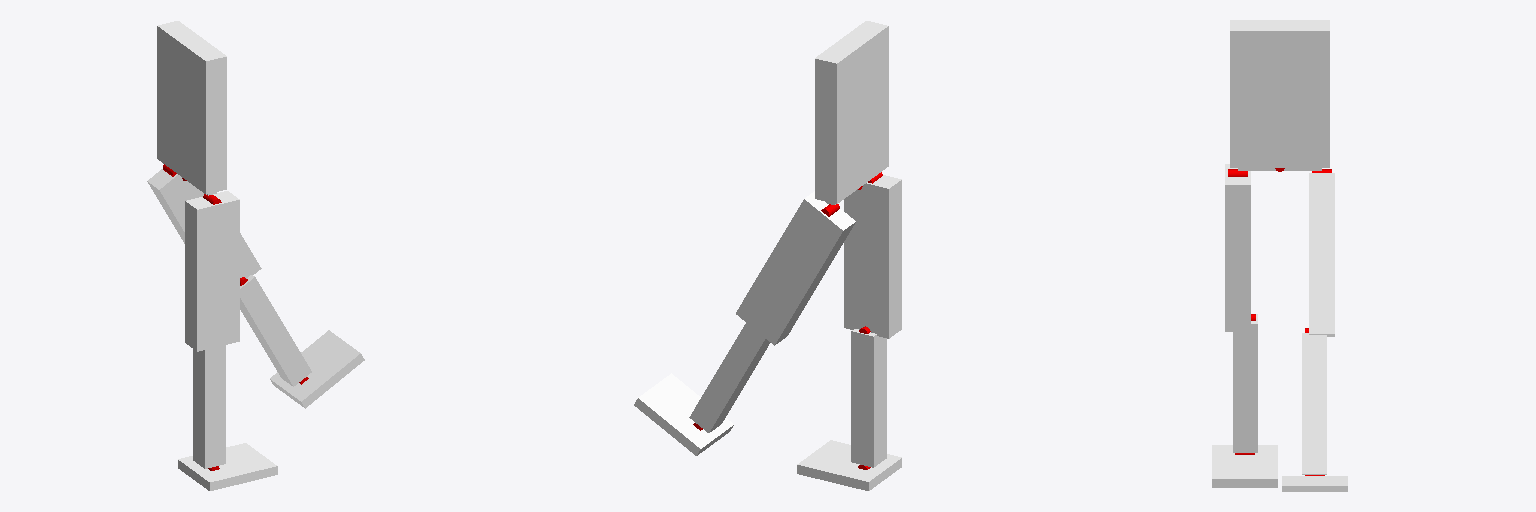
URDF robot description (humanoid):
<?xml version="1.0" ?>
<robot name="humanoid">

	<link name="world">
	<inertial>
      <mass value="0"/>
      <inertia ixx="0.2125" ixy="-0.005" ixz="0.0225" iyy="0.205" iyz="0.045" izz="0.0125"/>
      <origin rpy="0 0 0" xyz="0 0 0"/>
    </inertial>
	</link>

	<link name="x_prismatic">
	 <inertial>
      <mass value="0.01"/>
      <inertia ixx="0.2125" ixy="-0.005" ixz="0.0225" iyy="0.205" iyz="0.045" izz="0.0125"/>
      <origin rpy="0 0 0" xyz="0 0 0"/>
    </inertial>
	</link>

	<joint name="x_to_world" type="prismatic">
    <parent link="world"/>
    <child link="x_prismatic"/>
    <axis xyz="1 0 0"/>
    <limit effort="0.0" lower="10" upper="-10" velocity="1000.0"/>
    <origin rpy="0 0 0" xyz="0 0 0"/>
  </joint>

	<link name="z_prismatic">
	 <inertial>
      <mass value="0.01"/>
      <inertia ixx="0.2125" ixy="-0.005" ixz="0.0225" iyy="0.205" iyz="0.045" izz="0.0125"/>
      <origin rpy="0 0 0" xyz="0 0 0"/>
    </inertial>
	</link>

	<joint name="z_to_y" type="prismatic">
    <parent link="x_prismatic"/>
    <child link="z_prismatic"/>
    <axis xyz="0 0 1"/>
     <limit effort="0.0" lower="10" upper="-10" velocity="1000.0"/>
    <origin rpy="0 0 0" xyz="0 0 0"/>
  </joint>

	<joint name="torso_to_z" type="revolute">
    <parent link="z_prismatic"/>
    <child link="body"/>
    <axis xyz="0 1 0"/>
    <origin rpy="0 0 0" xyz="0 0 0"/>
    <limit effort="0.0" lower="10" upper="-10" velocity="1000.0"/>
  </joint>


    <link name="body">
        <visual>
            <geometry>
                <box size="0.05 0.2 0.3"/>
            </geometry>
            <origin xyz="0.0 0 0.0" rpy="0 0 0"/>
            <material name="linkColor">
                <color rgba="1 1 1 1"/>
            </material>
        </visual>
        <inertial>
            <mass value="5.81"/>
            <inertia ixx="0.190" ixy="-0.000237" ixz="0.00220" iyy="0.194" iyz="0.00142" izz="0.0308"/>
            <origin xyz="0.00672  0.00244 0.076" rpy="0 0 0"/>
        </inertial>
        <collision>
            <geometry>
                <box size="0.05 0.2 0.3"/>
            </geometry>
            <origin xyz="0.0 0 0.0" rpy="0 0 0"/>
        </collision>
    </link>

    <!-- ****************************Right leg joints******************************************** -->

    <joint name="jointHipR" type="revolute">
        <parent link="body"/>
        <child link="hipCylinderR"/>
        <origin xyz="0 0.0 -0.15" rpy="0 0 0"/>
        <axis xyz="1 0 0"/>
        <limit effort="90" lower="-0.174533" upper="0" velocity="10"/>
        <dynamics damping="0.01"/>
    </joint>


    <link name="hipCylinderR">
        <visual>
            <geometry>
                <cylinder length="0.04" radius="0.01"/>
            </geometry>
            <origin xyz="0 0 0.0" rpy="0 1.57 0"/>
            <axis xyz="0 0 0" />
            <material name="red">
                <color rgba="1 0.0 0.0 1.0"/>
            </material>
        </visual>
        <inertial>
            <mass value="0"/>
            <inertia ixx="0" ixy="0" ixz="0.0" iyy="0" iyz="0.0" izz="0"/>
        </inertial>
    </link>

    <joint name="jointUpperLegR" type="revolute">
        <parent link="hipCylinderR"/>
        <child link="upperLegCylinderR"/>
        <origin xyz="0 -0.0830 -0.0250" rpy="0 0 0"/>
        <axis xyz="0 1 0"/>
        <limit effort="90" lower="-0.698132" upper="+1.047" velocity="10"/>
        <dynamics damping="0.173402366366"/>
    </joint>

    <link name="upperLegCylinderR">
        <visual>
            <geometry>
                <cylinder length="0.04" radius="0.01"/>
            </geometry>
            <origin xyz="0 0 0" rpy="1.57 0 0"/>
            <axis xyz="0 0 0" />
            <material name="red"/>
        </visual>
        <inertial>
            <mass value="0"/>
            <inertia ixx="0" ixy="0" ixz="0.0" iyy="0" iyz="0.0" izz="0"/>
        </inertial>
    </link>

    <joint name="jointLowerLegR" type="revolute">
        <parent link="upperLegCylinderR"/>
        <child link="lowerlegCylinderR"/>
        <origin xyz="0.00110 0.0140 -0.3155" rpy="0 0 0"/>
        <axis xyz="0 1 0"/>
        <limit effort="90" lower="0" upper="1.570796" velocity="10"/>
        <dynamics damping="0.198431592389"/>
    </joint>

    <link name="lowerlegCylinderR">
        <visual>
            <geometry>
                <cylinder length="0.044" radius="0.01"/>
            </geometry>
            <origin xyz="0 0 0" rpy="1.57075 0 0"/>
            <axis xyz="0 0 0" />
            <material name="red"/>
        </visual>
        <inertial>
            <mass value="0"/>
            <inertia ixx="0" ixy="0" ixz="0.0" iyy="0" iyz="0.0" izz="0"/>
        </inertial>
    </link>

    <joint name="jointAnkleR" type="revolute">
        <parent link="lowerlegCylinderR"/>
        <child link="ankleCylinderR"/>
        <origin xyz="0.00300 0 -0.2915" rpy="0 0 0"/>
        <axis xyz="0 1 0"/>
        <limit effort="90" lower="-0.436332" upper="+0.436332" velocity="10"/>
        <dynamics damping="0.0005"/>
    </joint>

    <link name="ankleCylinderR">
        <visual>
            <geometry>
                <cylinder length="0.04" radius="0.01"/>
            </geometry>
            <origin xyz="0 0 0" rpy="1.57075 0 0"/>
            <axis xyz="0 0 0" />
            <material name="red"/>
        </visual>
        <inertial>
            <mass value="0"/>
            <inertia ixx="0" ixy="0" ixz="0.0" iyy="0" iyz="0.0" izz="0"/>
        </inertial>
    </link>
<!--
    <joint name="jointfootR" type="revolute">
        <parent link="ankleCylinderR"/>
        <child link="footCylinderR"/>
        <origin xyz="0 0 -0.0115" rpy="0 0 0"/>
        <axis xyz="1 0 0"/>
        <limit effort="10" lower="-3" upper="+3" velocity="10"/>
        <dynamics damping="0"/>
    </joint>
    <link name="footCylinderR">
        <visual>
            <geometry>
                <cylinder length="0.04" radius="0.01"/>
            </geometry>
            <origin xyz="0 0 0.02" rpy="0 1.57 0"/>
            <axis xyz="0 0 0" />
            <material name="red"/>
        </visual>
        <inertial>
            <mass value="0"/>
            <inertia ixx="0" ixy="0" ixz="0.0" iyy="0" iyz="0.0" izz="0"/>
        </inertial>
    </link> -->

    <!--************************************ Left leg joints **********************************************-->


    <joint name="jointHipL" type="revolute">
        <parent link="body"/>
        <child link="hipCylinderL"/>
        <origin xyz="0 0.0 -0.15" rpy="0 0 0"/>
        <axis xyz="1 0 0"/>
        <limit effort="90" lower="0" upper="+0.174533" velocity="10"/>
        <dynamics damping="0.01"/>
    </joint>


    <link name="hipCylinderL">
        <visual>
            <geometry>
                <cylinder length="0.04" radius="0.01"/>
            </geometry>
            <origin xyz="0 0 0" rpy="0 1.57 0"/>
            <axis xyz="0 0 0" />
            <material name="red">
                <color rgba="1 0.0 0.0 1.0"/>
            </material>
        </visual>
        <inertial>
            <mass value="0"/>
            <inertia ixx="0" ixy="0" ixz="0.0" iyy="0" iyz="0.0" izz="0"/>
        </inertial>
    </link>

    <joint name="jointUpperLegL" type="revolute">
        <parent link="hipCylinderL"/>
        <child link="upperLegCylinderL"/>
        <origin xyz="0 0.0830 -0.0250" rpy="0 -0.5 0"/>
        <axis xyz="0 1 0"/>
        <limit effort="10" lower="-0.174533" upper="+0.174533" velocity="10"/>
        <dynamics damping="0.173402366366"/>
    </joint>

    <link name="upperLegCylinderL">
        <visual>
            <geometry>
                <cylinder length="0.04" radius="0.01"/>
            </geometry>
            <origin xyz="0 0 0.0" rpy="1.57 0 0"/>
            <axis xyz="0 0 0" />
            <material name="red"/>
        </visual>
        <inertial>
            <mass value="0"/>
            <inertia ixx="0" ixy="0" ixz="0.0" iyy="0" iyz="0.0" izz="0"/>
        </inertial>
    </link>

    <joint name="jointLowerLegL" type="revolute">
        <parent link="upperLegCylinderL"/>
        <child link="lowerlegCylinderL"/>
        <origin xyz="0.00110 -0.0140 -0.3155" rpy="0 0 0"/>
        <axis xyz="0 1 0"/>
        <limit effort="90" lower="0" upper="1.570796" velocity="10"/>
        <dynamics damping="0.198431592389"/>
    </joint>

    <link name="lowerlegCylinderL">
        <visual>
            <geometry>
                <cylinder length="0.04" radius="0.01"/>
            </geometry>
            <origin xyz="0 0 0" rpy="1.57075 0 0"/>
            <axis xyz="0 0 0" />
            <material name="red"/>
        </visual>
        <inertial>
            <mass value="0"/>
            <inertia ixx="0" ixy="0" ixz="0.0" iyy="0" iyz="0.0" izz="0"/>
        </inertial>
    </link>

    <joint name="jointAnkleL" type="revolute">
        <parent link="lowerlegCylinderL"/>
        <child link="ankleCylinderL"/>
        <origin xyz="0.00300 0 -0.2915" rpy="0 0 0"/>
        <axis xyz="0 1 0"/>
        <limit effort="90" lower="-0.436332" upper="+0.436332" velocity="10"/>
        <dynamics damping="0.0005"/>
    </joint>

    <link name="ankleCylinderL">
        <visual>
            <geometry>
                <cylinder length="0.04" radius="0.01"/>
            </geometry>
            <origin xyz="0 0 0" rpy="1.57075 0 0"/>
            <axis xyz="0 0 0" />
            <material name="red"/>
        </visual>
        <inertial>
            <mass value="0"/>
            <inertia ixx="0" ixy="0" ixz="0.0" iyy="0" iyz="0.0" izz="0"/>
        </inertial>
    </link>

    <!-- <joint name="jointfootL" type="revolute">
        <parent link="ankleCylinderL"/>
        <child link="footCylinderL"/>
        <origin xyz="0 0 -0.0115" rpy="0 0 0"/>
        <axis xyz="1 0 0"/>
        <limit effort="10" lower="-3" upper="+3" velocity="10"/>
        <dynamics damping="0"/>
    </joint>
    <link name="footCylinderL">
        <visual>
            <geometry>
                <cylinder length="0.04" radius="0.01"/>
            </geometry>
            <origin xyz="0 0 0.02" rpy="0 1.57 0"/>
            <axis xyz="0 0 0" />
            <material name="red"/>
        </visual>
        <inertial>
            <mass value="0"/>
            <inertia ixx="0" ixy="0" ixz="0.0" iyy="0" iyz="0.0" izz="0"/>
        </inertial>
    </link> -->

    <!-- **************************************Decorations Right leg **********************************************-->


    <joint name="fixed_hipBridgeR" type="fixed">
        <parent link="hipCylinderR"/>
        <child link="hipBridgeR"/>
    </joint>

    <link name="hipBridgeR">
        <visual>
            <geometry>
                <box size="0.02 0.0830 0.0250"/>
            </geometry>
            <origin xyz="0 -0.0415 0.0" rpy="0 0 0"/>
            <material name="linkColor">
                <color rgba="1 1 1 1"/>
            </material>
        </visual>
        <inertial>
            <mass value="0.219"/>
            <inertia ixx="0.000414" ixy="0.0000149" ixz="0.00000188" iyy="0.000128" iyz="-0.0000311" izz="0.000395"/>
            <origin rpy="0 0 0" xyz="0.00131 -0.0515 -0.00661"/>
        </inertial>
        <collision>
            <geometry>
                <box size="0.02 0.0830 0.0250"/>
            </geometry>
            <origin xyz="0 -0.0415 0.0" rpy="0 0 0"/>
            <!-- <contact_coefficient mu="0.0"  resitution="0"  k_p="4000"  k_d="0.01" /> -->
        </collision>
    </link>

    <joint name="fixed_upperLegBridgeR" type="fixed">
        <parent link="upperLegCylinderR"/>
        <child link="upperLegBridgeR"/>
    </joint>

    <link name="upperLegBridgeR">
        <visual>
            <geometry>
                <box size="0.1 0.05 0.32"/>
            </geometry>
            <origin xyz="0.0 0.0 -0.16" rpy="0 0 0"/>
            <material name="linkColor">
                <color rgba="1 1 1 1"/>
            </material>
        </visual>
        <inertial>
            <mass value="1.94"/>
            <inertia ixx="0.0104" ixy="-0.00000195" ixz="0.0000231" iyy="0.00933" iyz="-0.000127" izz="0.00161"/>
            <origin xyz="0.00154  -0.00421 -0.111" rpy="0 0 0"/>
        </inertial>
        <collision>
            <geometry>
                <box size="0.1 0.05 0.32"/>
            </geometry>
            <origin xyz="0.0 0.0 -0.16" rpy="0 0 0"/>
            <!-- <contact_coefficient mu="0.0578491069103"  resitution="0"  k_p="4000"  k_d="0.173402366366" /> -->
        </collision>
    </link>

    <joint name="fixed_lowerLegBridgeR" type="fixed">
        <parent link="lowerlegCylinderR"/>
        <child link="lowerLegBridgeR"/>
    </joint>

    <link name="lowerLegBridgeR">
        <visual>
            <geometry>
                <box size="0.05 0.05 0.28"/>
            </geometry>
            <origin xyz="0 0 -0.14" rpy="0 0 0"/>
            <material name="linkColor">
                <color rgba="1 1 1 1"/>
            </material>
        </visual>
        <inertial>
            <mass value="0.267"/>
            <inertia ixx="0.00252" ixy="-0.000000411" ixz="-0.0000238" iyy="0.00245" iyz="0.0000366" izz="0.000110"/>
            <origin xyz="0.00153  0.00496 -0.105" rpy="0 0 0"/>
        </inertial>
        <collision>
            <geometry>
                <box size="0.05 0.05 0.28"/>
            </geometry>
            <origin xyz="0.0 0 -0.14" rpy="0 0 0"/>
            <!-- <contact_coefficient mu="0.0960723602789"  resitution="0"  k_p="4000"  k_d="0.198431592389" /> -->
        </collision>
    </link>


    <joint name="fixed_ankleBridgeR" type="fixed">
        <parent link="ankleCylinderR"/>
        <child link="ankleBridgeR"/>
    </joint>

    <link name="ankleBridgeR">
        <visual>
            <geometry>
                <box size="0.16 0.13 0.02"/>
            </geometry>
            <origin xyz="0.04 0 -0.01" rpy="0 0 0"/>
            <material name="linkColor">
                <color rgba="1 1 1 1"/>
            </material>
        </visual>
        <inertial>
            <mass value="0.2356"/>
            <inertia ixx="0.0000952" ixy="0.00000066457" ixz="0.0000003989" iyy="0.0005002" iyz="-0.000005328" izz="0.0005679"/>
            <origin xyz="0.0230654545  0.0004316655 -0.0061157216" rpy="0 0 0"/>
        </inertial>
        <collision>
            <geometry>
                <box size="0.16 0.13 0.02"/>
            </geometry>
            <origin xyz="0.04 0 -0.01" rpy="0 0 0"/>
            <contact_coefficient mu="0.5"  resitution="0"  k_p="1.0593"  k_d="0.0005" />
        </collision>
    </link>

    <!--&lt;!&ndash; *********************************Decorations Left leg ******************************************&ndash;&gt;-->
    <joint name="fixed_hipBridgeL" type="fixed">
        <parent link="hipCylinderL"/>
        <child link="hipBridgeL"/>
    </joint>

    <link name="hipBridgeL">
        <visual>
            <geometry>
                <box size="0.02 0.0830 0.0250"/>
            </geometry>
            <origin xyz="0 0.0415 0" rpy="0 0 0"/>
            <material name="linkColor">
                <color rgba="1 1 1 1"/>
            </material>
        </visual>
        <inertial>
            <mass value="0.219"/>
            <inertia ixx="0.000414" ixy="0.0000149" ixz="-0.00000188" iyy="0.000128" iyz="0.0000311" izz="0.000359"/>
            <origin rpy="0 0 0" xyz="-0.00131 0.0515 -0.00661"/>
        </inertial>
        <collision>
            <geometry>
                <box size="0.02 0.0830 0.0250"/>
            </geometry>
            <origin xyz="0 0.0415 0.0125" rpy="0 0 0"/>
            <!-- <contact_coefficient mu="0.0"  resitution="0"  k_p="4000"  k_d="0.01" /> -->
        </collision>
    </link>

    <joint name="fixed_upperLegBridgeL" type="fixed">
        <parent link="upperLegCylinderL"/>
        <child link="upperLegBridgeL"/>
    </joint>

    <link name="upperLegBridgeL">
        <visual>
            <geometry>
                <box size="0.1 0.05 0.32"/>
            </geometry>
            <origin xyz="0 0 -0.16" rpy="0 0 0"/>
            <material name="linkColor">
                <color rgba="1 1 1 1"/>
            </material>
        </visual>
        <inertial>
            <mass value="1.94"/>
            <inertia ixx="0.0104" ixy="0.00000286" ixz="0.0000226" iyy="0.00933" iyz="0.000325" izz="0.00165"/>
            <origin xyz="-0.00167  0.00371 -0.111" rpy="0 0 0"/>
        </inertial>
        <collision>
            <geometry>
                <box size="0.1 0.05 0.32"/>
            </geometry>
            <origin xyz="0 0 -0.16" rpy="0 0 0"/>
            <!-- <contact_coefficient mu="0.0578491069103"  resitution="0"  k_p="4000"  k_d="0.173402366366" /> -->
        </collision>
    </link>

    <joint name="fixed_lowerLegBridgeL" type="fixed">
        <parent link="lowerlegCylinderL"/>
        <child link="lowerLegBridgeL"/>
    </joint>

    <link name="lowerLegBridgeL">
        <visual>
            <geometry>
                <box size="0.05 0.05 0.28"/>
            </geometry>
            <origin xyz="0 0 -0.14" rpy="0 0 0"/>
            <material name="linkColor">
                <color rgba="1 1 1 1"/>
            </material>
        </visual>
        <inertial>
            <mass value="0.267"/>
            <inertia ixx="0.00252" ixy="-0.000000411" ixz="-0.0000238" iyy="0.00245" iyz="0.0000366" izz="0.000110"/>
            <origin xyz="0.00153  0.00496 -0.105" rpy="0 0 0"/>
        </inertial>
        <collision>
            <geometry>
                <box size="0.05 0.05 0.28"/>
            </geometry>
            <origin xyz="0 0 -0.14" rpy="0 0 0"/>
            <!-- <contact_coefficient mu="0.0960723602789"  resitution="0"  k_p="4000"  k_d="0.198431592389" /> -->
        </collision>
    </link>


    <joint name="fixed_ankleBridgeL" type="fixed">
        <parent link="ankleCylinderL"/>
        <child link="ankleBridgeL"/>
    </joint>

    <link name="ankleBridgeL">
        <visual>
            <geometry>
                <box size="0.16 0.13 0.02"/>
            </geometry>
            <origin xyz="0.04 0 -0.01" rpy="0 0 0"/>
            <material name="linkColor">
                <color rgba="1 1 1 1"/>
            </material>
        </visual>
        <inertial>
            <mass value="0.2356"/>
            <inertia ixx="0.0000952" ixy="0.00000066457" ixz="0.0000003989" iyy="0.0005002" iyz="-0.000005328" izz="0.0005679"/>
            <origin xyz="0.0230654545  0.0004316655 -0.0061157216" rpy="0 0 0"/>
        </inertial>
        <collision>
            <geometry>
                <box size="0.16 0.13 0.02"/>
            </geometry>
            <origin xyz="0.04 0 -0.01" rpy="0 0 0"/>
            <contact_coefficient mu="0.5"  resitution="0"  k_p="1.0593"  k_d="0.0005" />
        </collision>
    </link>

</robot>

--- What the picture shows (computed from the rendered views, not written in the file) ---
The picture shows the robot from 3 angles, left to right: view 1: azimuth 30°, elevation 25°; view 2: azimuth 150°, elevation 25°; view 3: azimuth 270°, elevation 25°; orthographic projection.
Model humanoid with 20 links and 19 joints (9 revolute, 2 prismatic, 8 fixed), rooted at world, posed every joint at zero.
Visible links, largest first — view 1: body, upperLegBridgeR, lowerLegBridgeR, lowerLegBridgeL, ankleBridgeL, ankleBridgeR, upperLegBridgeL; view 2: body, upperLegBridgeR, upperLegBridgeL, lowerLegBridgeR, lowerLegBridgeL, ankleBridgeL, ankleBridgeR; view 3: body, upperLegBridgeL, upperLegBridgeR, lowerLegBridgeL, lowerLegBridgeR, ankleBridgeR, ankleBridgeL.
Link boxes in pixels (left/top/right/bottom): body: left=157, top=21, right=226, bottom=194; upperLegBridgeR: left=185, top=191, right=239, bottom=351; lowerLegBridgeR: left=193, top=345, right=225, bottom=468; lowerLegBridgeL: left=240, top=275, right=311, bottom=386; ankleBridgeL: left=270, top=330, right=364, bottom=408; ankleBridgeR: left=178, top=443, right=277, bottom=490; upperLegBridgeL: left=147, top=169, right=261, bottom=278; body: left=815, top=21, right=888, bottom=203; upperLegBridgeR: left=844, top=175, right=901, bottom=338; upperLegBridgeL: left=736, top=191, right=855, bottom=345; lowerLegBridgeR: left=851, top=329, right=886, bottom=467; lowerLegBridgeL: left=689, top=323, right=770, bottom=432; ankleBridgeL: left=634, top=373, right=733, bottom=455; ankleBridgeR: left=797, top=440, right=901, bottom=490; body: left=1230, top=20, right=1329, bottom=167; upperLegBridgeL: left=1309, top=173, right=1334, bottom=336; upperLegBridgeR: left=1225, top=164, right=1250, bottom=331; lowerLegBridgeL: left=1302, top=333, right=1326, bottom=474; lowerLegBridgeR: left=1233, top=314, right=1257, bottom=452; ankleBridgeR: left=1212, top=445, right=1277, bottom=487; ankleBridgeL: left=1282, top=476, right=1347, bottom=491.
Bounding box of the posed robot: 0.4595 × 0.268 × 0.952 m (x, y, z).
Geometry: primitives only (box / cylinder / sphere), no mesh files.